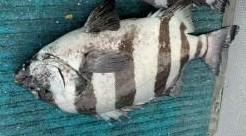fish: (16, 0, 240, 119)
